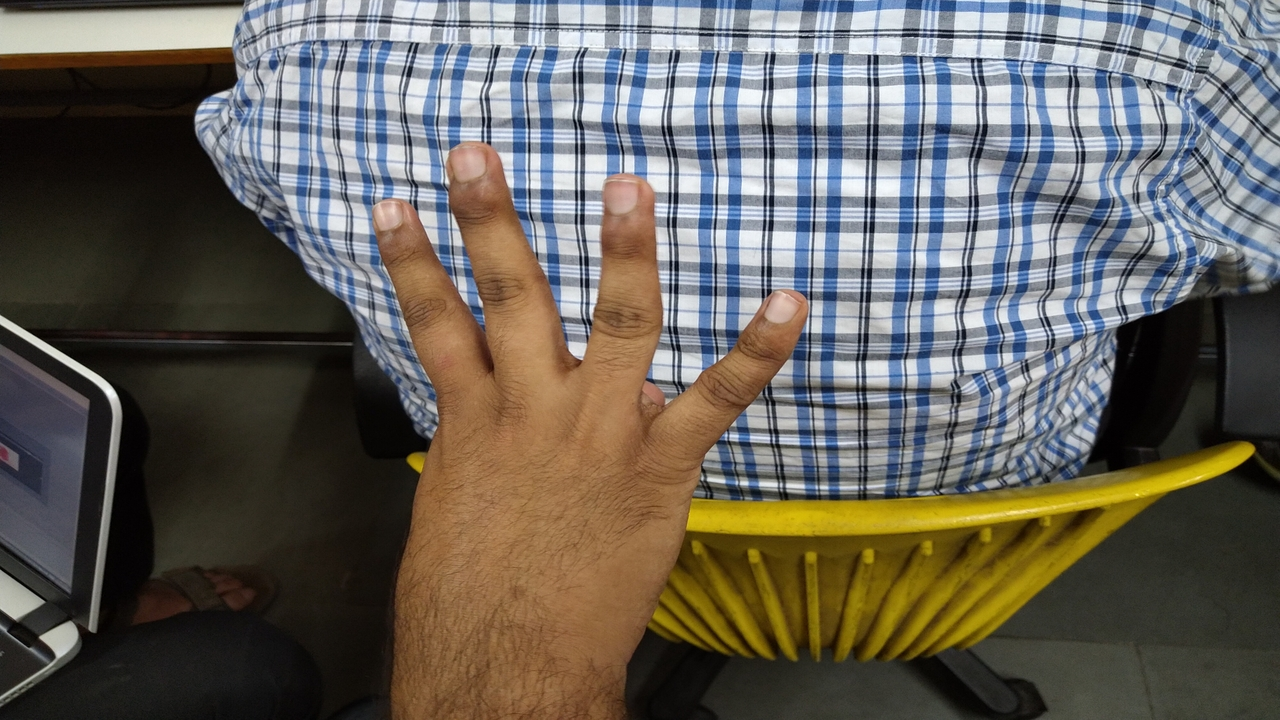fingertip: (434, 138, 510, 204), (590, 168, 660, 228), (748, 282, 816, 338), (358, 190, 424, 246)
